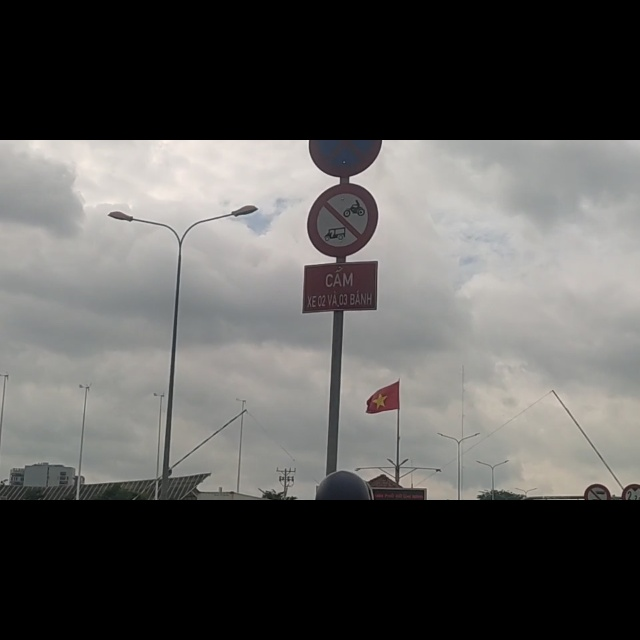bien_cam: (308, 76, 377, 211), (302, 12, 385, 63), (582, 612, 611, 640), (622, 609, 640, 639)
